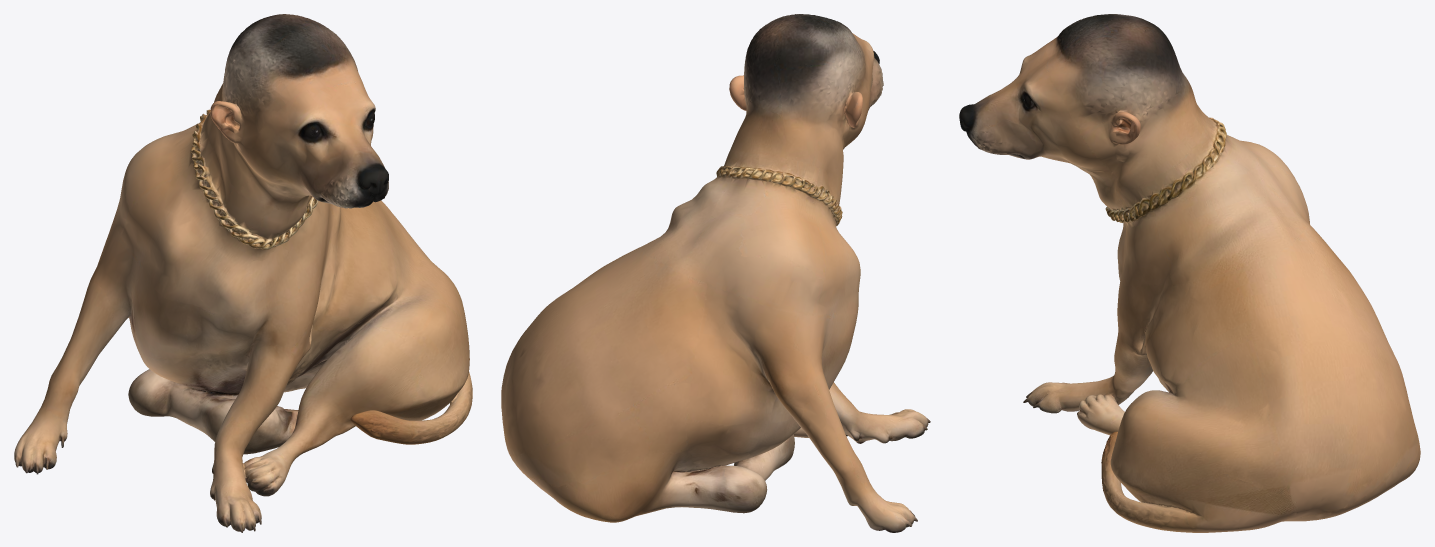
Rendered from dechos-hunde-easteregg.glb.
3 views of the same model, side by side, from view 1: azimuth 30°, elevation 25°; view 2: azimuth 150°, elevation 25°; view 3: azimuth 270°, elevation 25° (orthographic). The views are drawn at different scales.
Bounding box in the file's own units: 1.67 × 1.7 × 1.68.
Materials: 1 (1 with a texture image).
